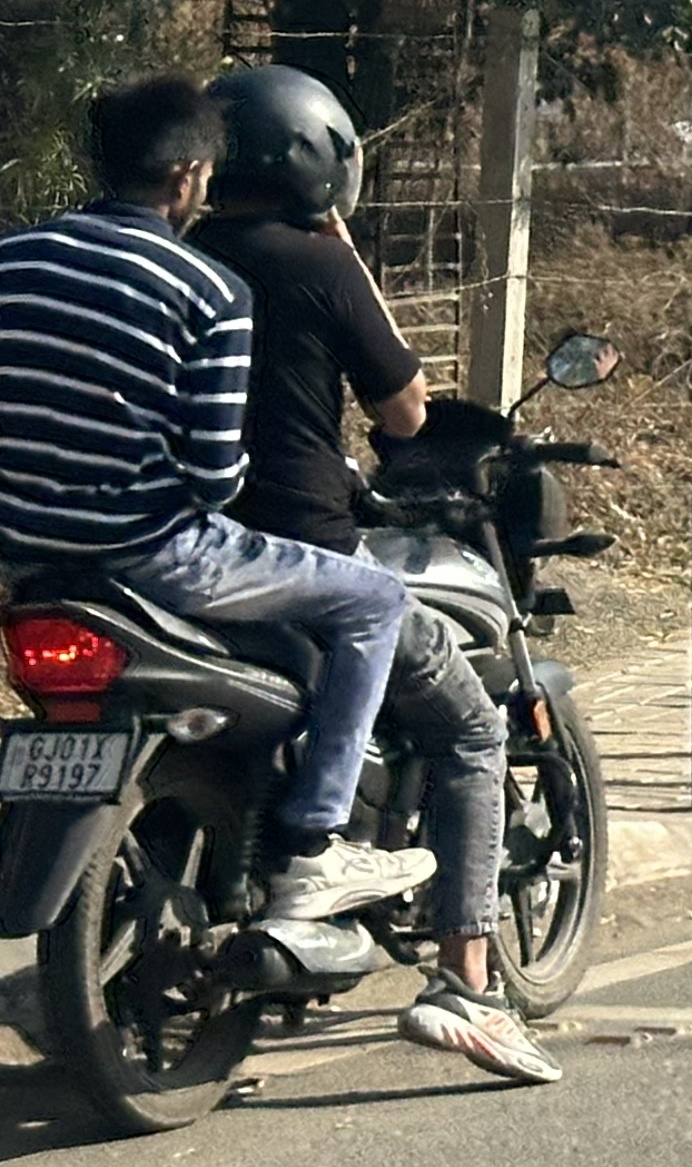BikeWithRider: (0, 50, 624, 1138)
Helmet: (199, 54, 373, 235)
NoHelmet: (70, 66, 226, 243)
